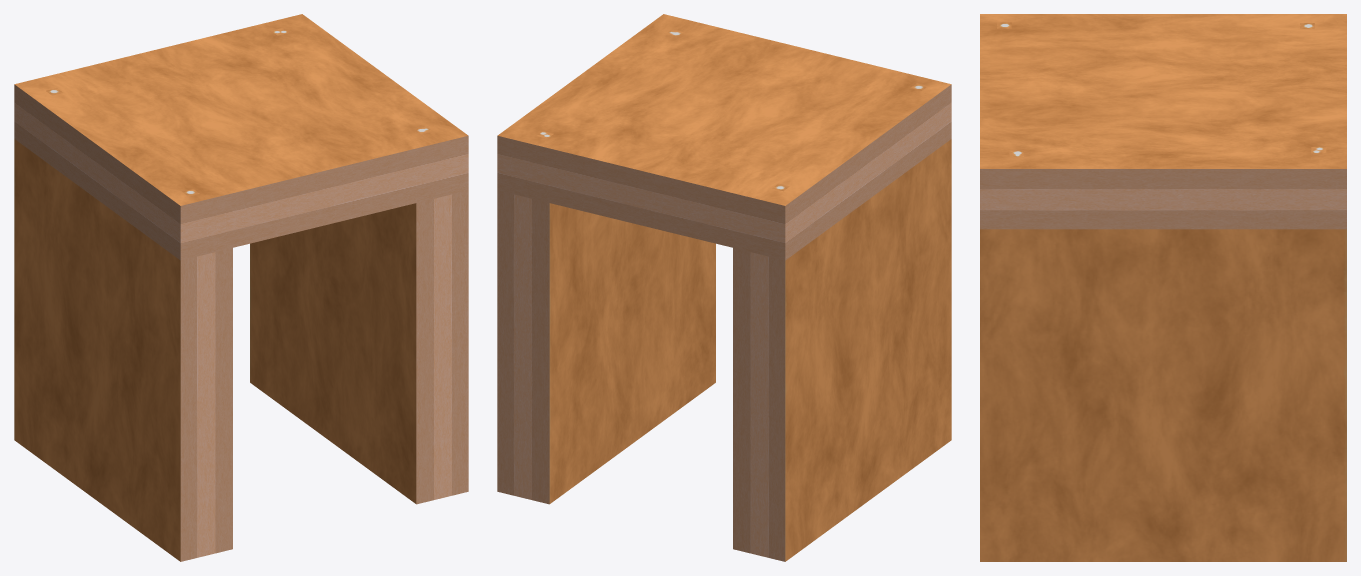
Rendered from Chair_2.fbx.
3 views of the same model, side by side, from view 1: azimuth 30°, elevation 25°; view 2: azimuth 150°, elevation 25°; view 3: azimuth 270°, elevation 25° (orthographic). The views are drawn at different scales.
Parts seen in each view (by area): view 1: Chair_2; view 2: Chair_2; view 3: Chair_2.
Boxes of the visible parts, x1,y1,x2,y2 form: Chair_2: [14, 14, 468, 561]; Chair_2: [497, 14, 951, 561]; Chair_2: [980, 14, 1346, 561].
Bounding box in the file's own units: 0.4457 × 0.5265 × 0.4457.
